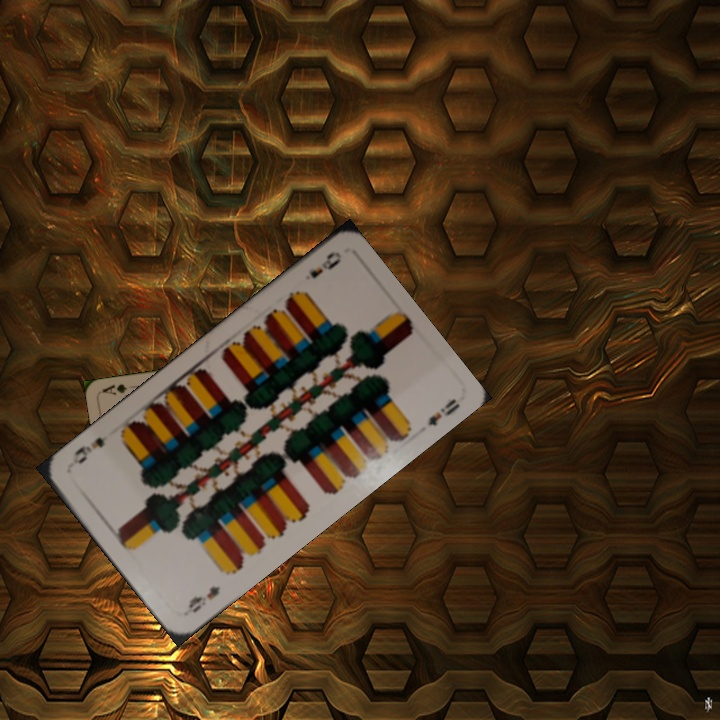E9: (184, 581, 223, 616), (305, 247, 345, 281)
